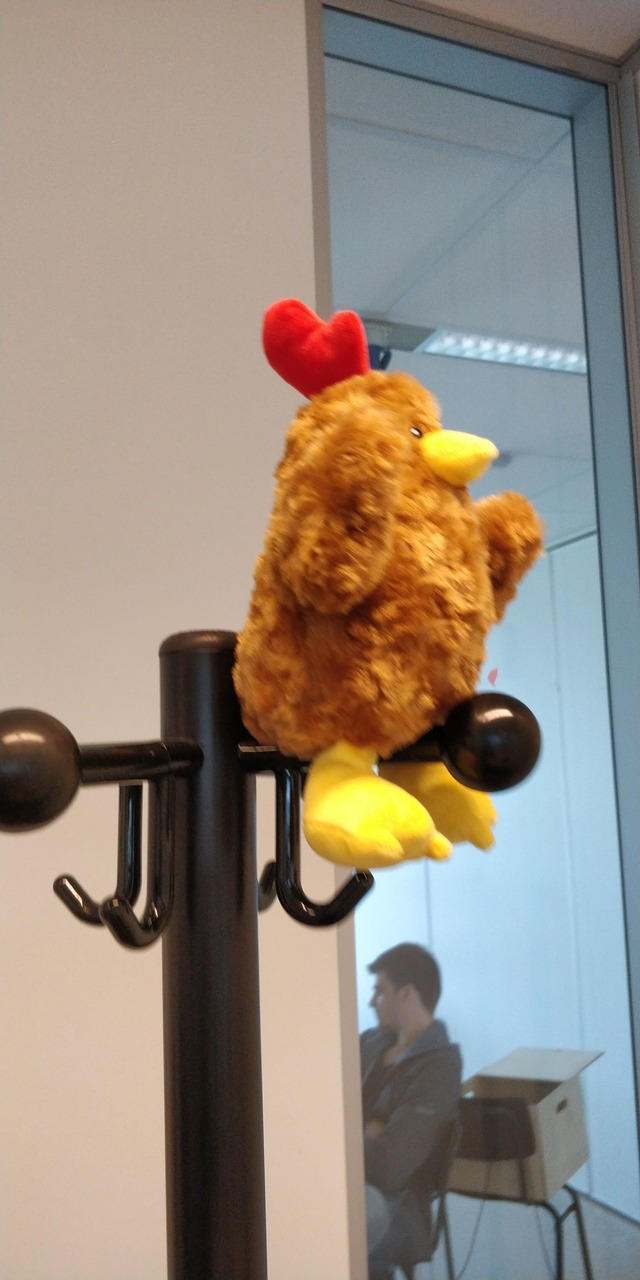fakeChicken: (233, 296, 542, 870)
